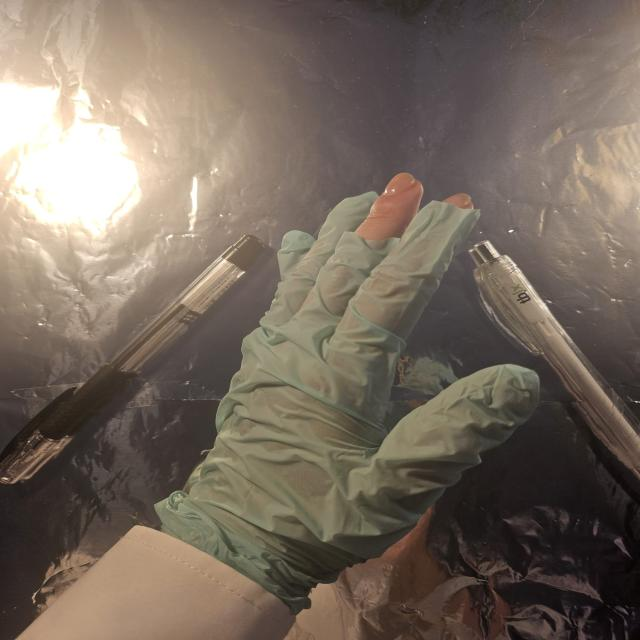gloves_damaged: (149, 170, 549, 618)
